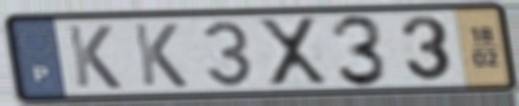3: (329, 12, 389, 89), (195, 18, 256, 89), (398, 14, 453, 84)
K: (130, 21, 191, 90), (64, 23, 125, 91)
X: (254, 15, 332, 90)
